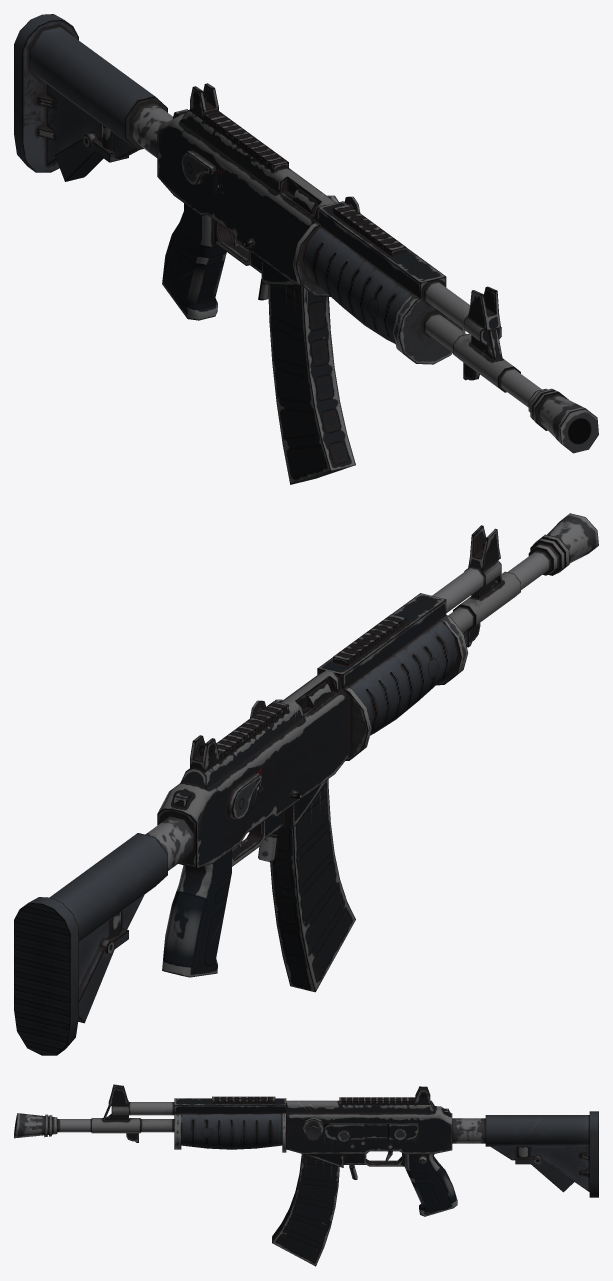
The model's file is GalilACE.fbx.
3 renders of one model, top to bottom at view 1: azimuth 30°, elevation 25°; view 2: azimuth 150°, elevation 25°; view 3: azimuth 270°, elevation 25°, orthographic. The views are drawn at different scales.
Visible parts, largest first — view 1: GalilACE; view 2: GalilACE; view 3: GalilACE.
Boxes of the visible parts, bbox=[...] form: GalilACE: bbox=[14, 14, 598, 484]; GalilACE: bbox=[14, 513, 598, 1055]; GalilACE: bbox=[14, 1084, 598, 1266].
Size of the model in its own units: 92.43 by 333 by 1000.
